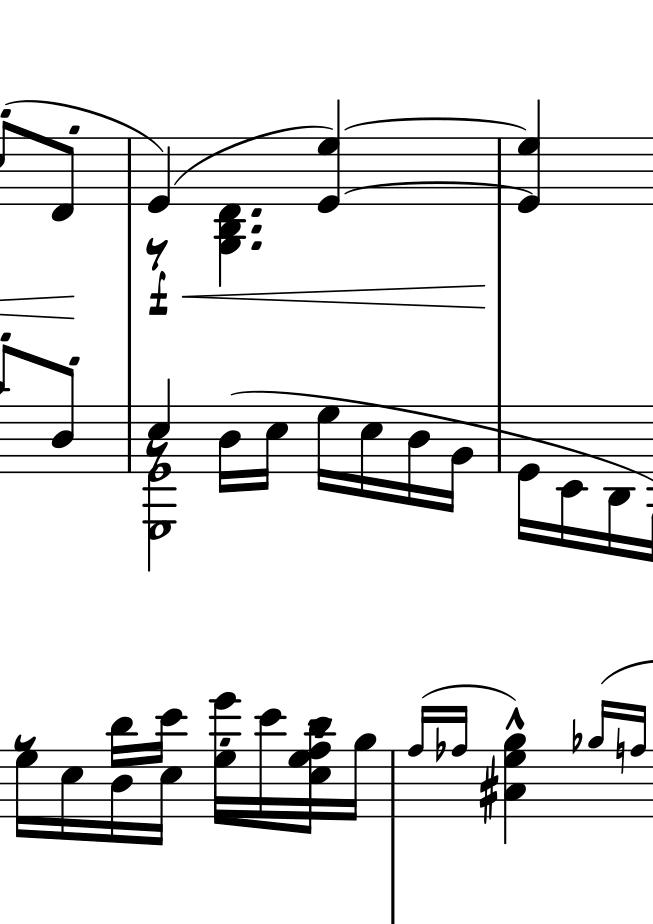16_-2: (557, 404, 587, 552)
16_-3: (603, 404, 633, 562)
16_0: (516, 405, 542, 545)
16_2: (443, 403, 473, 514)
16_4: (405, 403, 431, 512), (217, 404, 241, 497)
16_5: (254, 406, 288, 492), (357, 400, 383, 504), (58, 748, 84, 844)
16_7: (314, 401, 339, 495), (14, 750, 33, 844)
16_9: (345, 732, 374, 822)
4_0: (148, 137, 173, 213)
4_0_7: (318, 100, 343, 214), (516, 99, 541, 213)
4_th: (214, 136, 245, 285), (502, 731, 528, 845)
8_-1: (49, 137, 77, 224)
8_4: (50, 363, 76, 475)
Appoggiature_2: (410, 703, 471, 756)
Crescendo_hairpin: (182, 283, 485, 310)
Flat: (569, 715, 584, 756), (434, 727, 447, 761)
Marcato_above: (505, 706, 526, 731)
Natural: (614, 725, 627, 778)
Rests4: (145, 235, 169, 272)
Sharp: (478, 760, 500, 826)
Single_barline: (491, 138, 509, 205), (122, 140, 138, 205), (492, 408, 507, 472), (122, 407, 136, 472), (386, 752, 400, 817)
Slur: (175, 122, 333, 184), (6, 98, 163, 155), (346, 116, 527, 132), (348, 179, 533, 194), (423, 681, 516, 700)
dot: (248, 237, 266, 253), (248, 222, 266, 237), (250, 204, 264, 220)
f: (148, 274, 168, 318)
